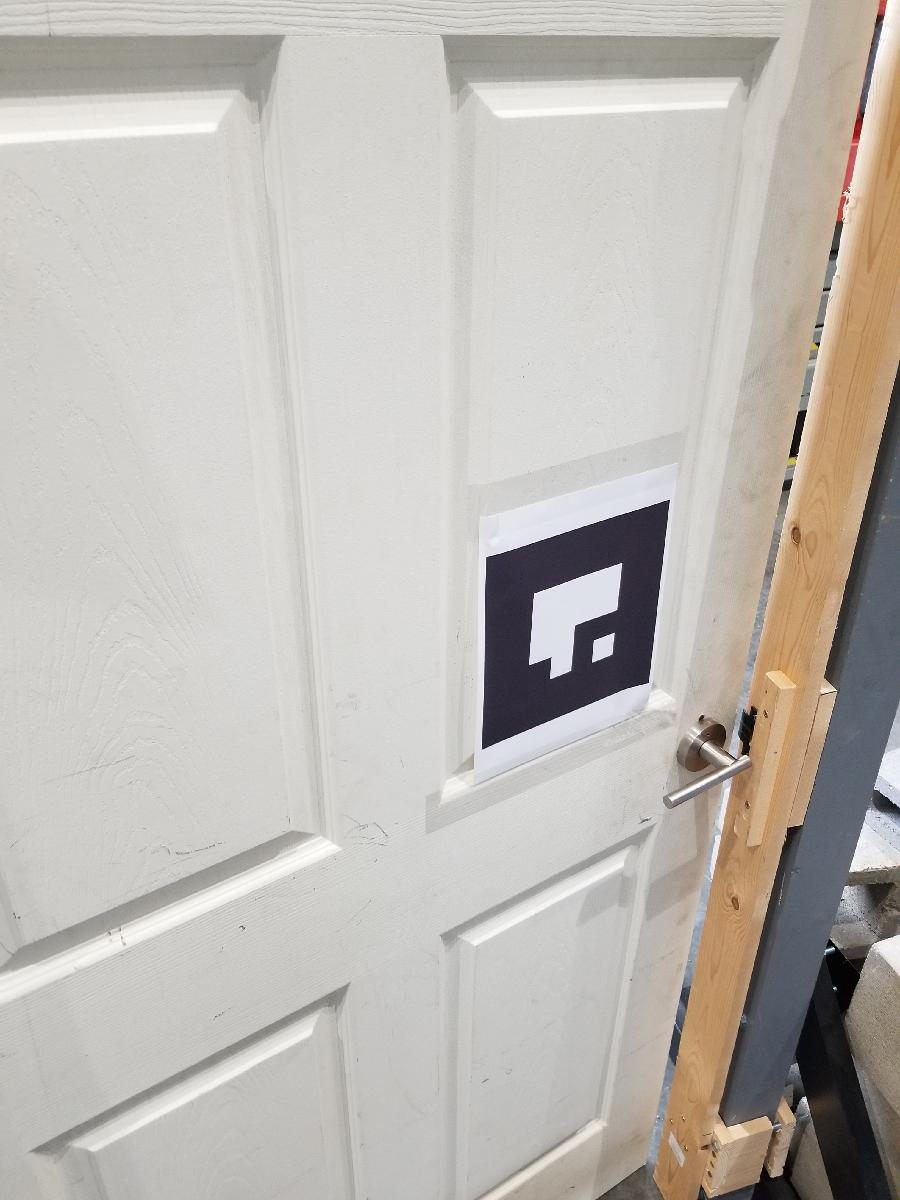doorHandle: (652, 714, 756, 811)
